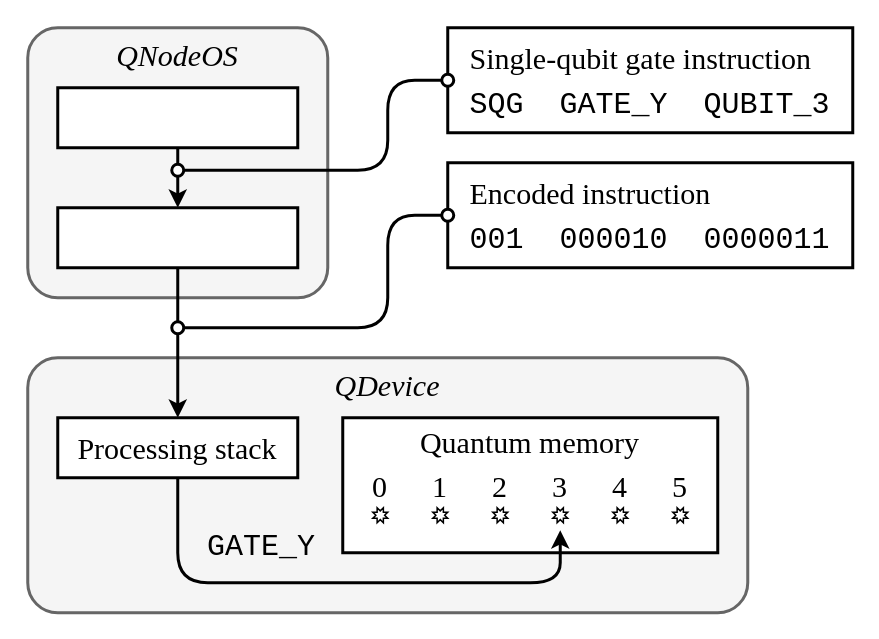
The diagram is 879 pixels wide and 639 high, and some of its shapes have lost their labels. The shapes that lost their labels are listed below. From the top down, each one's centre as x and y in pixels, then its label:
At pixel 177 117: "Processor".
At pixel 177 237: "QDevice driver".
